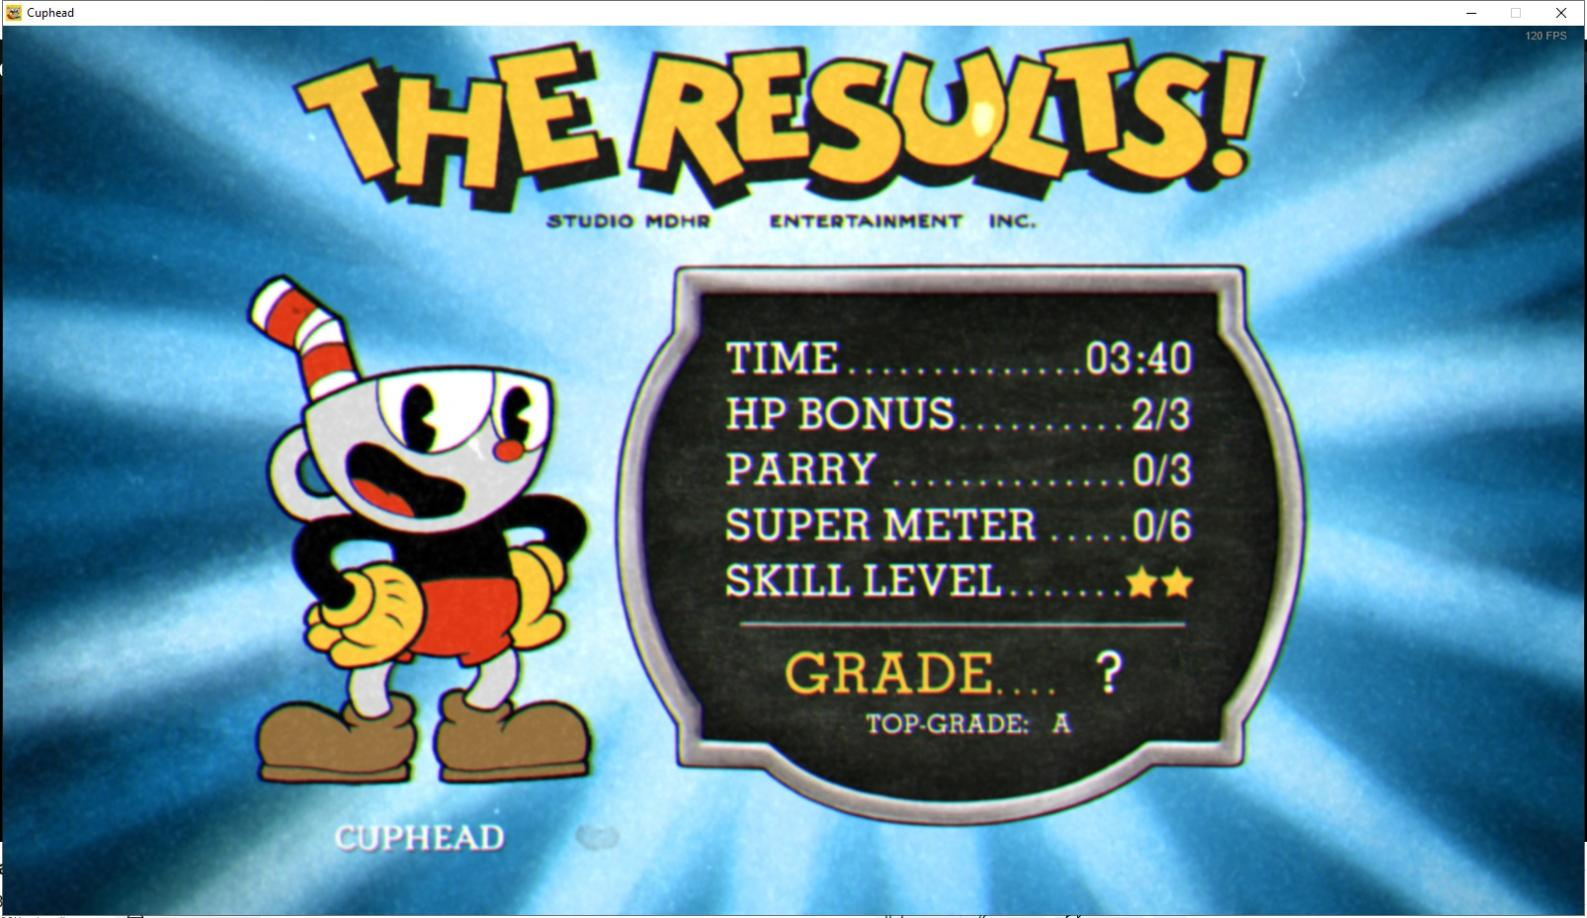win_results: (279, 32, 1284, 246)
